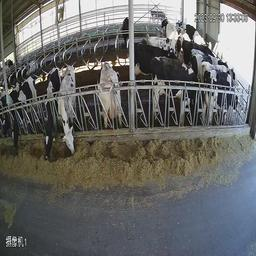cow: (148, 53, 203, 133), (8, 59, 39, 167), (89, 57, 127, 144), (203, 67, 243, 143), (57, 52, 80, 156), (38, 61, 60, 167), (132, 35, 176, 72), (201, 47, 240, 85), (179, 26, 214, 68), (162, 14, 190, 39)
